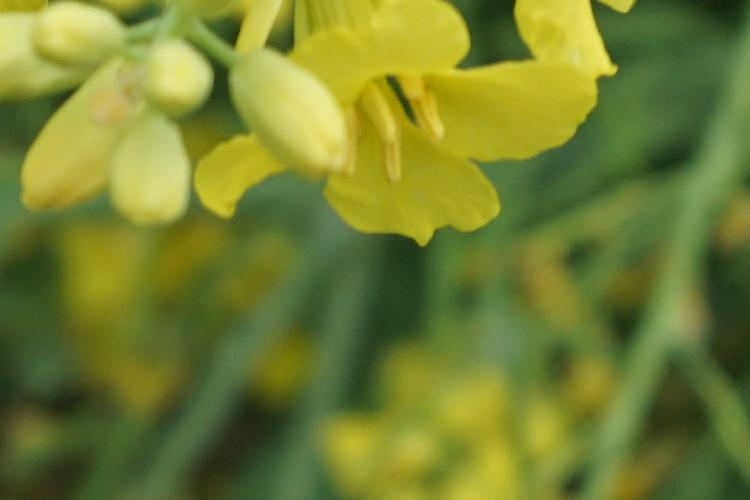bud: (18, 61, 123, 203), (230, 55, 343, 179), (115, 113, 195, 234), (39, 11, 126, 65), (140, 52, 212, 113)
yellow: (302, 9, 612, 247)
